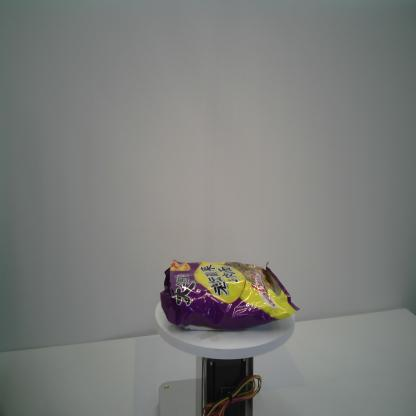Instant Noodles: (159, 258, 302, 334)
